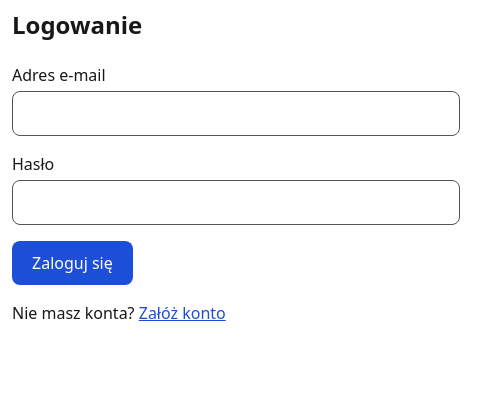
ekran logowania › błędy walidacji (422) pokazuje przy polach z aria-invalid
Type "anna@example.com" into the field with id "email". click: point(236, 113)
box: [12, 91, 460, 136]
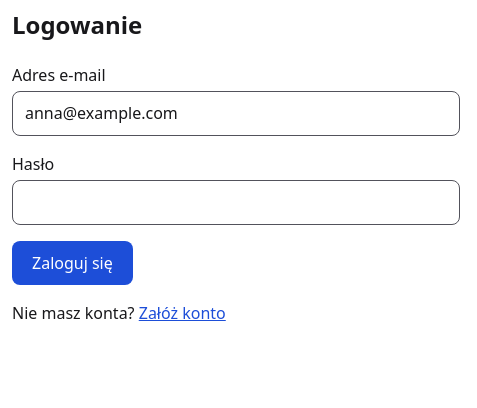
Type "haslo1234" into the password field labelled "Hasło". click: point(236, 203)
box: [12, 180, 460, 225]
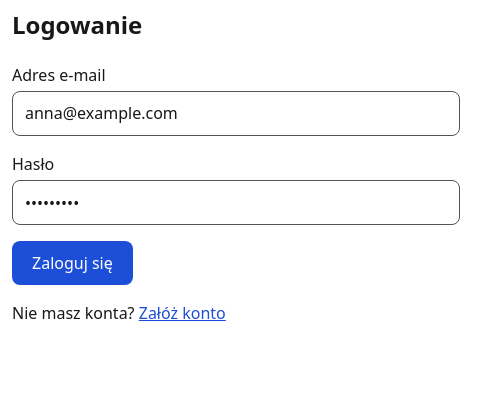
Submit the form, box [12, 63, 460, 285]
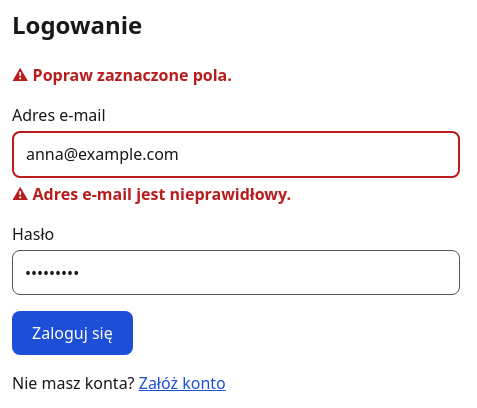
expect the text with id "email-error" reads "Adres e-mail jest nieprawidłowy.": met, box [33, 183, 291, 205]
